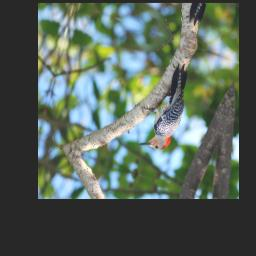Woodpecker: (133, 54, 195, 157)
